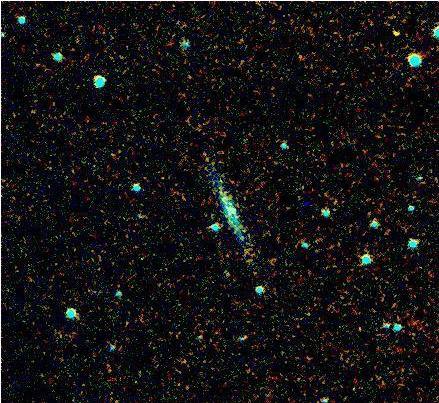star: (378, 18, 408, 48)
